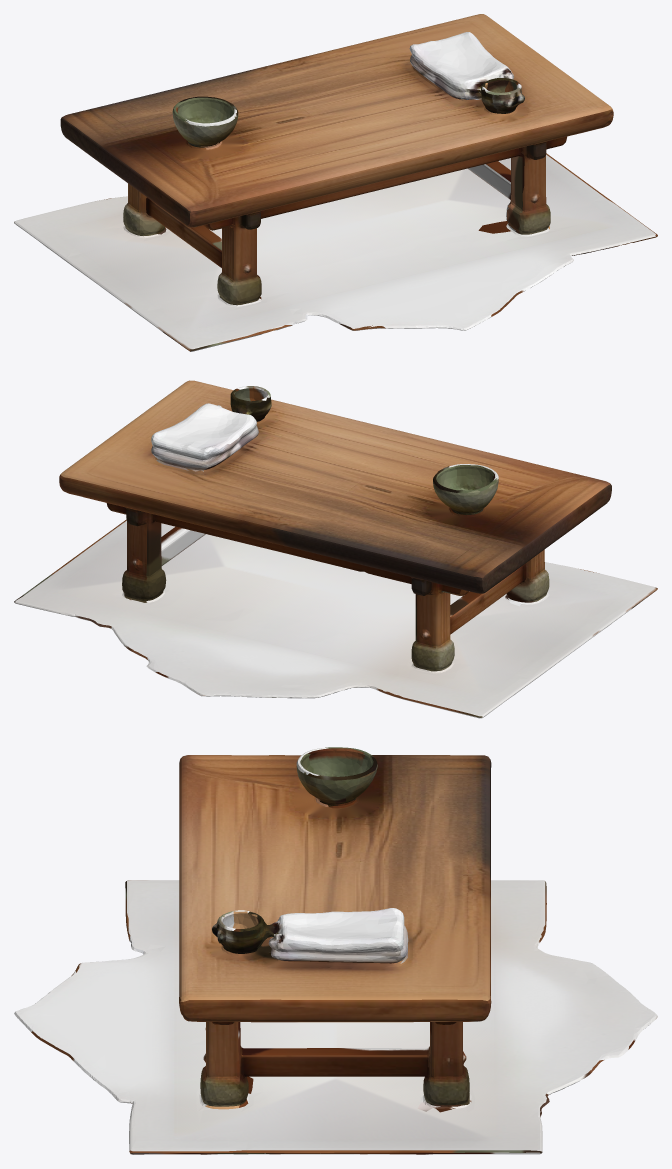
The model's file is traveler_env_coast_kamen_shrine_offering_stand_00001_.glb.
The picture shows the model from 3 angles, top to bottom: view 1: azimuth 30°, elevation 25°; view 2: azimuth 150°, elevation 25°; view 3: azimuth 270°, elevation 25°; orthographic projection. The views are drawn at different scales.
Parts seen in each view (by area): view 1: temp_mesh.ply; view 2: temp_mesh.ply; view 3: temp_mesh.ply.
Part boxes in pixels (x1=…): temp_mesh.ply: x1=14, y1=14, x2=657, y2=351; temp_mesh.ply: x1=14, y1=380, x2=657, y2=718; temp_mesh.ply: x1=14, y1=747, x2=657, y2=1154.
Bounding box in the file's own units: 1.97 × 0.6132 × 1.97.
Materials: 1 (1 with a texture image).
